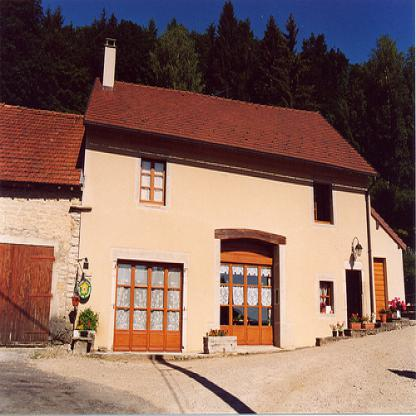pottedplant: (379, 298, 406, 324), (80, 310, 99, 334), (208, 328, 234, 338), (351, 314, 364, 331), (71, 293, 80, 310), (364, 315, 374, 330), (334, 322, 344, 336)
